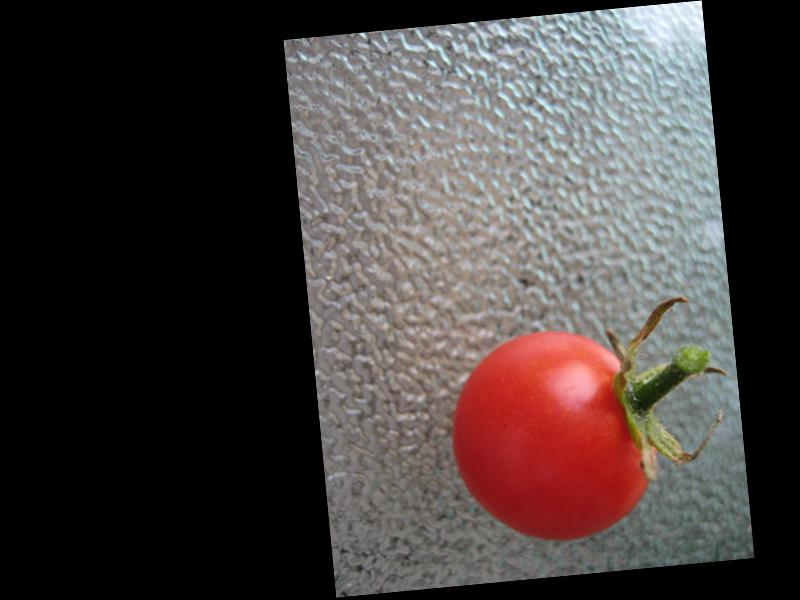Tomato: (441, 320, 653, 548)
